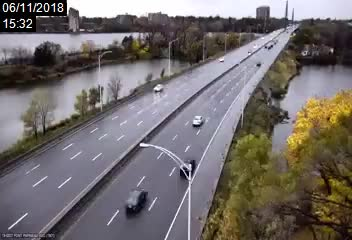personal_car: (124, 187, 148, 215), (178, 156, 197, 178), (191, 115, 205, 127), (153, 84, 164, 92)
